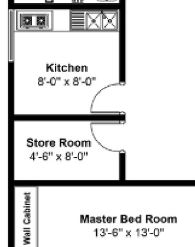door: (81, 77, 131, 114), (81, 121, 133, 153)
window: (3, 7, 19, 62)
